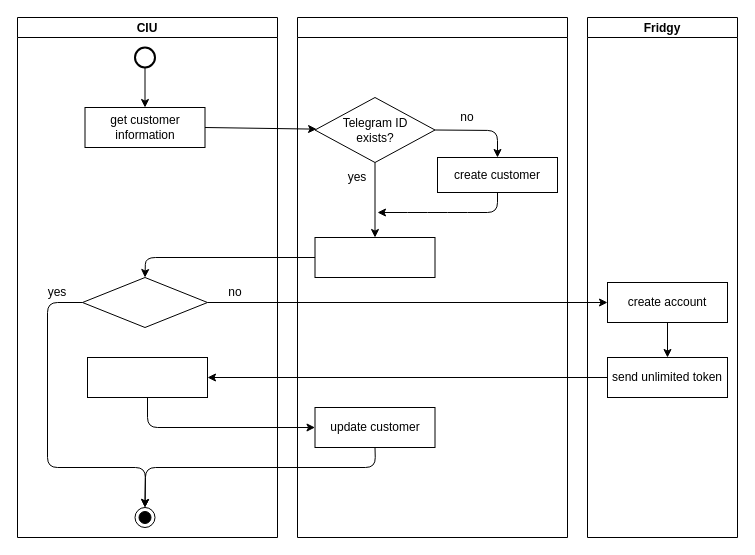
Some shapes in this 755 by 555 pixel diagram are drawn without their labels. Here are the shapes that lost their labels. From the top down, the box of each, then its label:
(314, 236, 435, 278): send customer information
(296, 16, 568, 538): CRM
(82, 276, 208, 328): token available?
(86, 356, 208, 398): attach to customer
